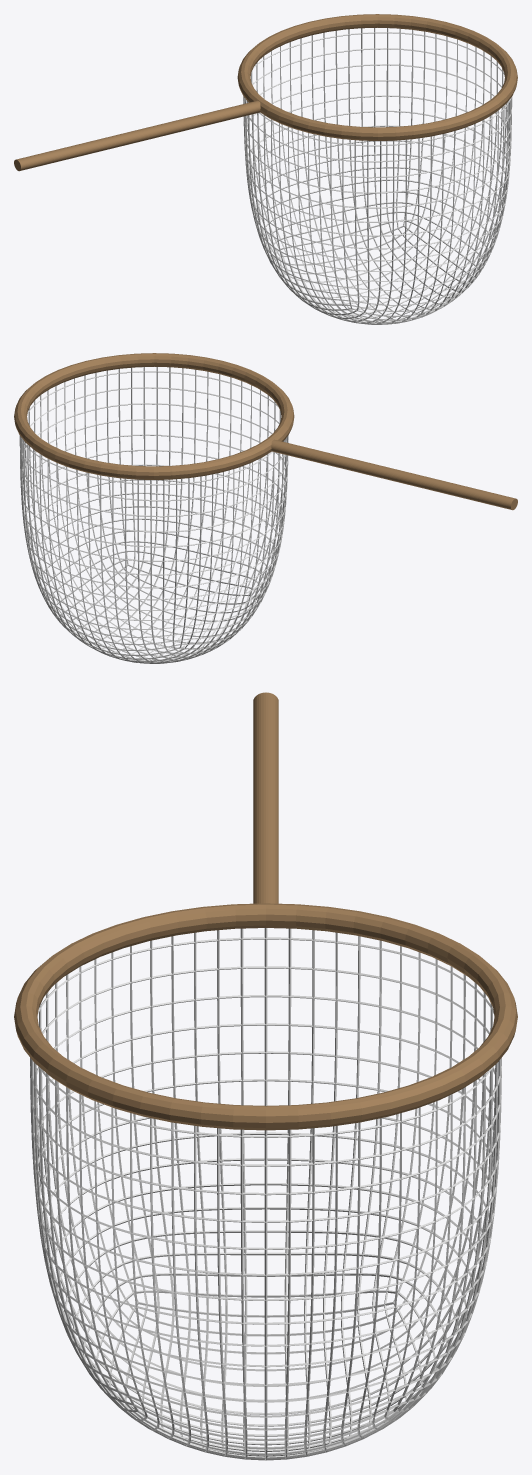
Rendered from net-juist.fbx.
3 renders of one model, top to bottom at view 1: azimuth 30°, elevation 25°; view 2: azimuth 150°, elevation 25°; view 3: azimuth 270°, elevation 25°, orthographic. The views are drawn at different scales.
Parts seen in each view (by area): view 1: Cube, Torus, Cylinder; view 2: Cube, Torus, Cylinder; view 3: Cube, Torus, Cylinder.
Boxes of the visible parts, x1=… form: Cube: x1=243, y1=28, x2=512, y2=324; Torus: x1=237, y1=14, x2=517, y2=140; Cylinder: x1=14, y1=100, x2=260, y2=171; Cube: x1=19, y1=367, x2=288, y2=663; Torus: x1=14, y1=353, x2=294, y2=479; Cylinder: x1=271, y1=439, x2=517, y2=510; Cube: x1=30, y1=928, x2=501, y2=1460; Torus: x1=14, y1=903, x2=517, y2=1130; Cylinder: x1=253, y1=692, x2=278, y2=903.
Bounding box in the file's own units: 389 × 186 × 197.
